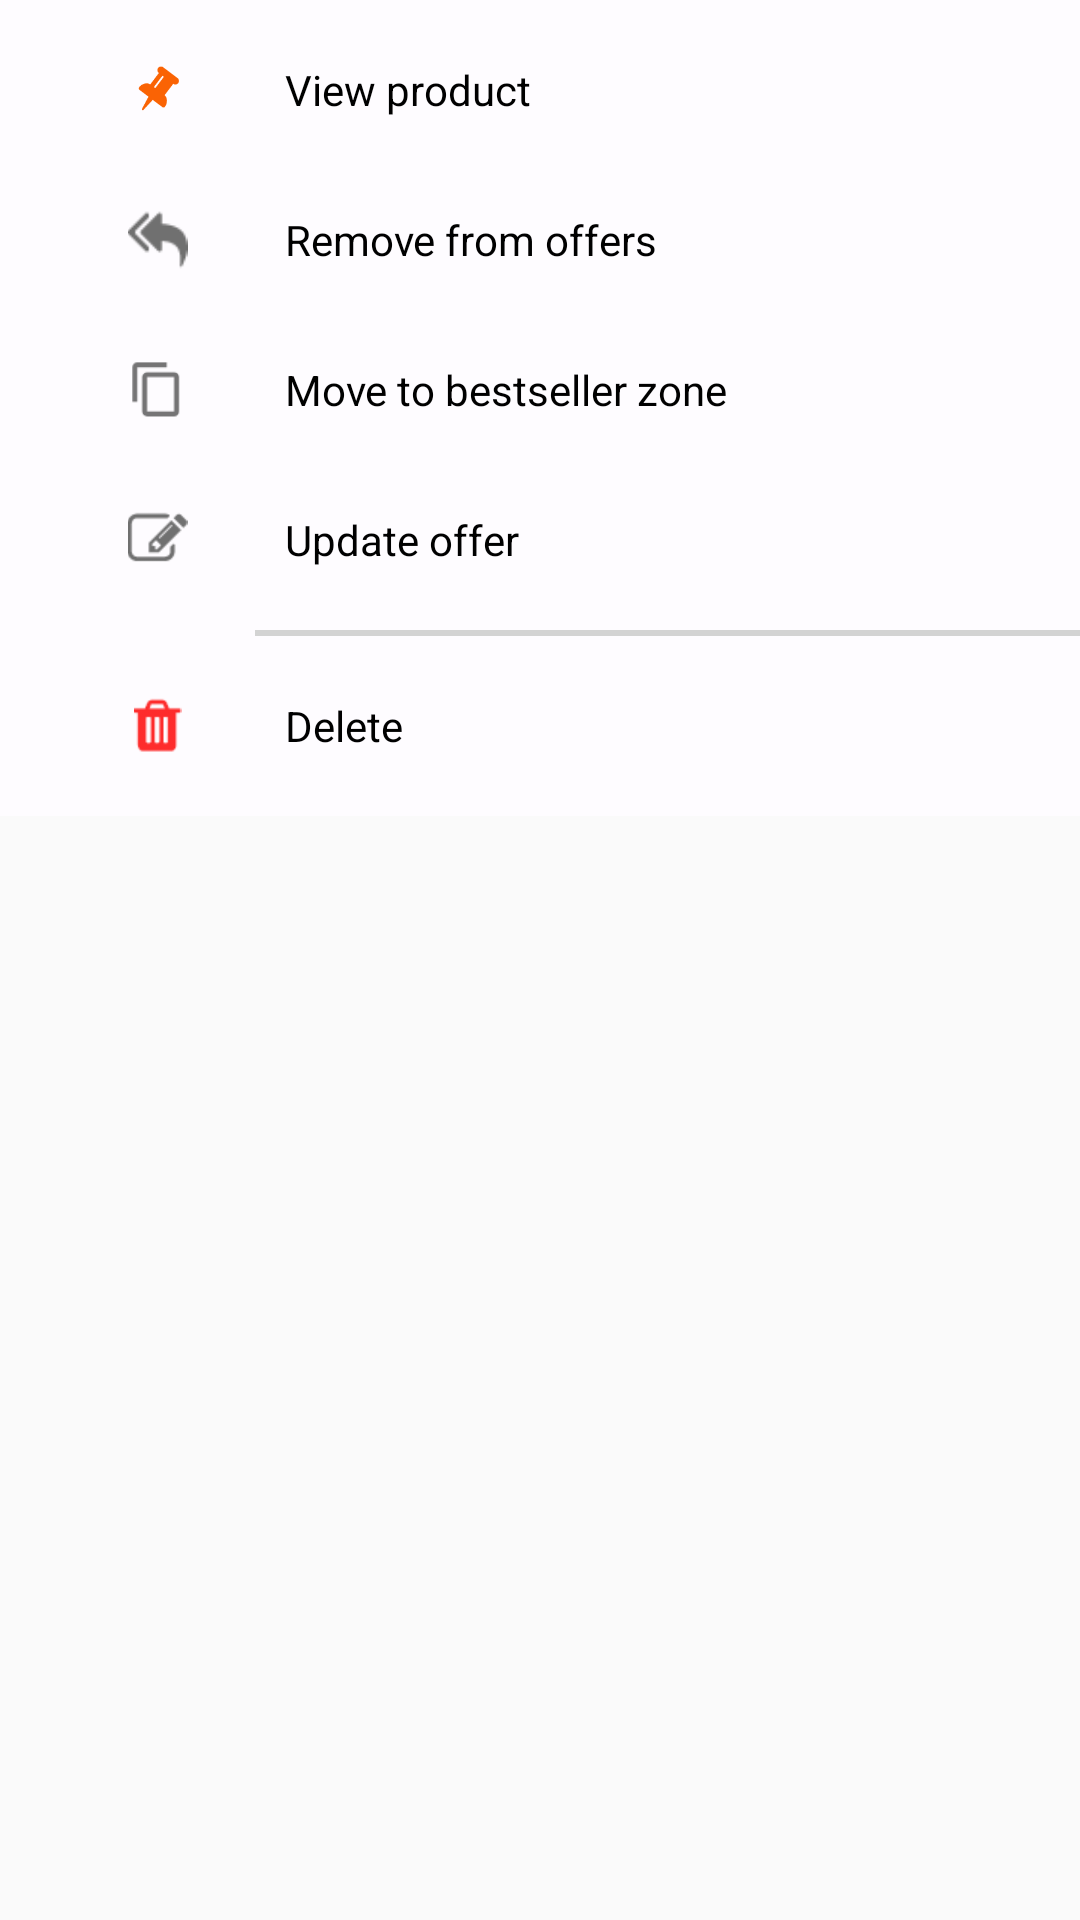

Point at icon controls on the screen. Image size 1080w x 1920h, points as [x,y].
msg edit: [158,537]
msg pin: [158,88]
msg reply: [158,239]
